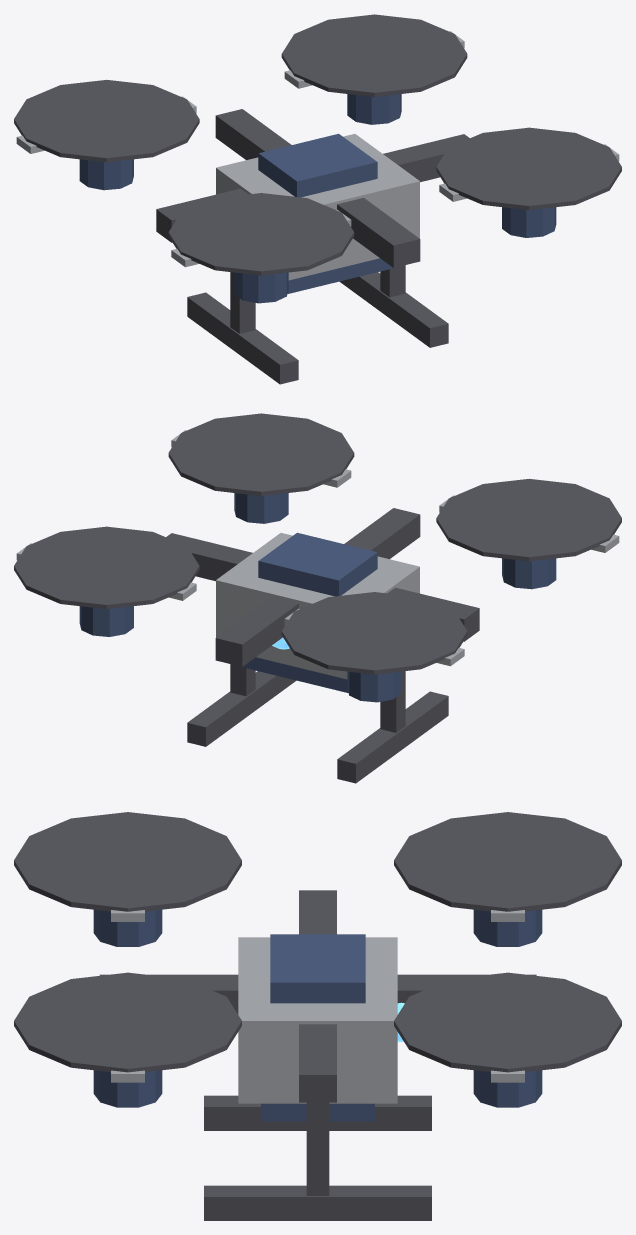
The model's file is us_reaper_drone.glb.
3 renders of one model, top to bottom at view 1: azimuth 30°, elevation 25°; view 2: azimuth 150°, elevation 25°; view 3: azimuth 270°, elevation 25°, orthographic. The views are drawn at different scales.
Parts seen in each view (by area): view 1: Rotor_2, Rotor_3, Rotor_4, Rotor_1, Body, ArmZ, TopPlate, SkidR, SkidL, ArmX, Motor0, Motor3 (+5 smaller); view 2: Rotor_1, Rotor_4, Rotor_3, Rotor_2, Body, ArmZ, TopPlate, SkidR, SkidL, ArmX, Motor1, Motor2 (+5 smaller); view 3: Rotor_1, Rotor_2, Rotor_3, Rotor_4, Body, SkidL, TopPlate, ArmX, SkidR, LegL, ArmZ, Motor0 (+4 smaller).
Boxes of the visible parts, box(x1,y1,x2,y2) form: Rotor_2: box(436, 127, 621, 210); Rotor_3: box(14, 79, 199, 162); Rotor_4: box(168, 193, 354, 275); Rotor_1: box(281, 14, 467, 96); Body: box(216, 134, 419, 280); ArmZ: box(215, 109, 420, 267); TopPlate: box(258, 133, 377, 197); SkidR: box(187, 292, 298, 384); SkidL: box(339, 272, 448, 347); ArmX: box(156, 134, 469, 242); Motor0: box(347, 94, 401, 124); Motor3: box(234, 272, 288, 303); Rotor_1: box(14, 526, 199, 609); Rotor_4: box(436, 478, 621, 561); Rotor_3: box(281, 592, 467, 674); Rotor_2: box(168, 413, 354, 495); Body: box(216, 533, 419, 679); ArmZ: box(215, 508, 420, 666); TopPlate: box(258, 532, 377, 596); SkidR: box(337, 691, 448, 783); SkidL: box(187, 671, 296, 746); ArmX: box(166, 533, 479, 641); Motor1: box(234, 493, 288, 523); Motor2: box(347, 671, 401, 702); Rotor_1: box(394, 972, 621, 1082); Rotor_2: box(14, 972, 241, 1082); Rotor_3: box(394, 812, 621, 921); Rotor_4: box(14, 812, 241, 921); Body: box(238, 937, 397, 1103); SkidL: box(204, 1185, 431, 1220); TopPlate: box(270, 934, 365, 1003); ArmX: box(299, 890, 336, 1102); SkidR: box(204, 1095, 431, 1130); LegL: box(306, 1102, 329, 1195); ArmZ: box(99, 974, 536, 1014); Motor0: box(473, 1070, 542, 1107).
Bounding box in the file's own units: 1.62 × 0.6675 × 1.6.
